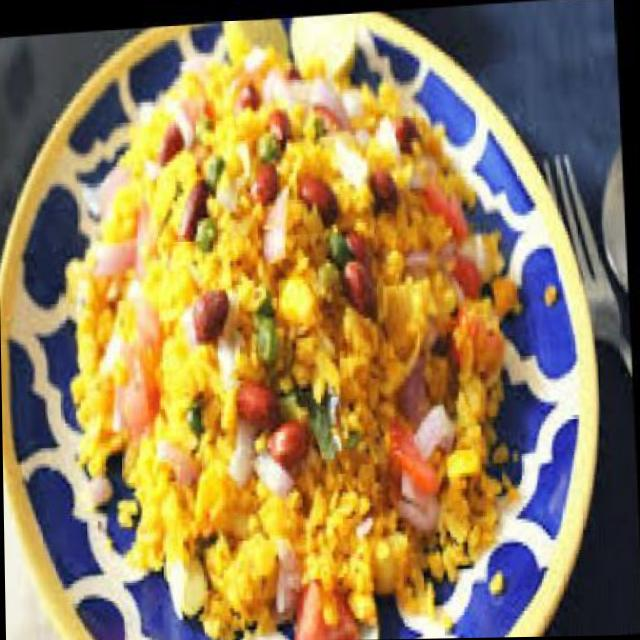poha: (58, 28, 535, 640)
